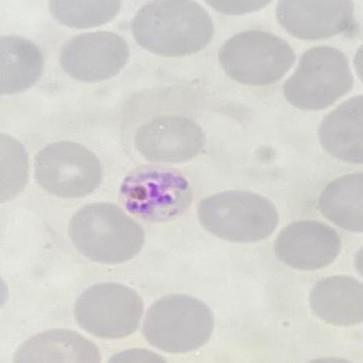Infected: (116, 161, 195, 222)
Uninfected: (68, 202, 144, 265), (285, 44, 353, 112), (144, 292, 214, 354), (133, 0, 213, 54), (34, 138, 102, 200), (219, 31, 297, 85), (200, 191, 276, 242), (63, 28, 131, 84), (72, 282, 142, 336), (276, 0, 356, 42), (320, 95, 363, 169), (138, 116, 204, 164), (273, 222, 339, 270), (307, 273, 363, 327), (321, 171, 363, 236), (0, 35, 44, 97)
